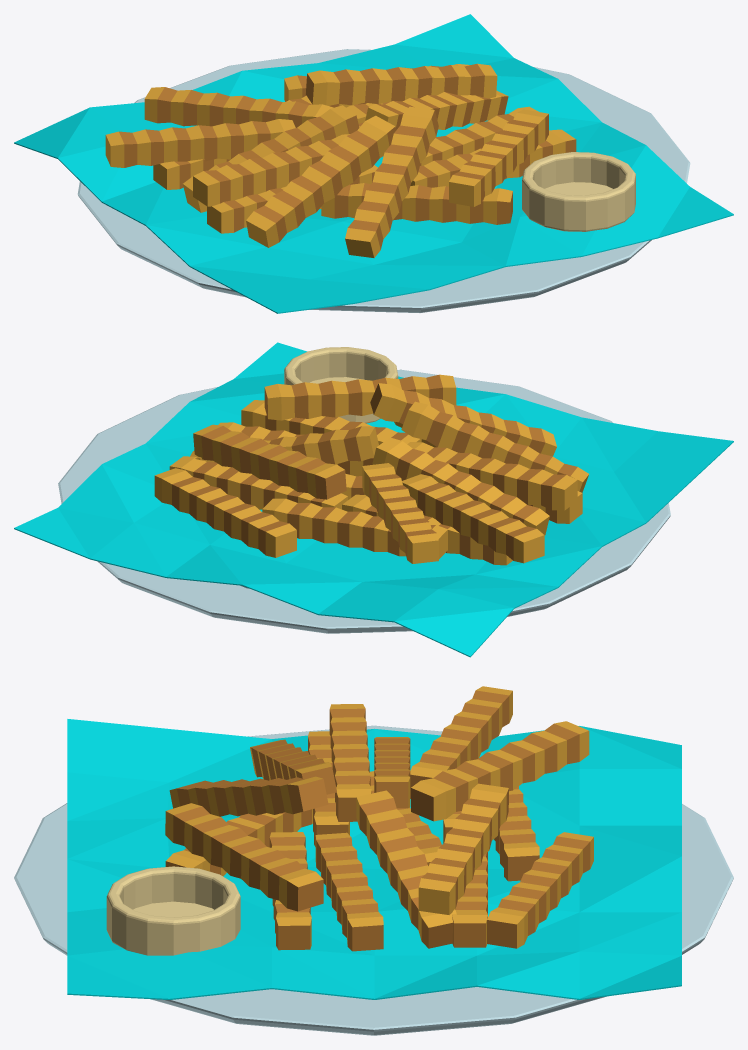
The model's file is fries 2.fbx.
3 views of the same model, one above another, from view 1: azimuth 30°, elevation 25°; view 2: azimuth 150°, elevation 25°; view 3: azimuth 270°, elevation 25° (orthographic). The views are drawn at different scales.
Visible parts, largest first — view 1: bake_paper, Cube.014, Cube.019, Cube.005, Cube.009, Cube.016, Cube.018, Cube.002, Cube.013, Cube.017, Cube.006, Cube.010 (+6 smaller); view 2: bake_paper, Cube.014, Cube.009, Cube.007, Cube.018, Cube.013, Cube.005, Cube, Cube.017, Cube.004, Cube.002, Cube.016 (+7 smaller); view 3: bake_paper, Cube.014, Cube.019, Cube.013, Cube.002, Cube.007, Cube.009, Cube.010, Cube.011, Cube.016, Cube.018, Cube.017 (+8 smaller).
Boxes of the visible parts, x1,y1,x2,y2 form: bake_paper: (14,14,733,313); Cube.014: (77,49,690,312); Cube.019: (522,152,635,231); Cube.005: (246,115,395,247); Cube.009: (306,63,497,105); Cube.016: (345,106,438,257); Cube.018: (105,119,295,167); Cube.002: (144,87,333,127); Cube.013: (449,109,548,206); Cube.017: (193,134,349,206); Cube.006: (321,183,512,224); Cube.010: (365,90,508,130); bake_paper: (14,342,733,657); Cube.014: (58,369,670,633); Cube.009: (193,424,346,499); Cube.007: (154,468,296,557); Cube.018: (402,474,544,563); Cube.013: (264,374,456,420); Cube.005: (401,401,588,492); Cube: (262,498,447,558); Cube.017: (407,442,577,510); Cube.004: (372,437,549,535); Cube.002: (362,463,438,563); Cube.016: (370,383,556,456); bake_paper: (67,719,681,999); Cube.014: (14,725,733,1035); Cube.019: (106,866,240,955); Cube.013: (165,803,323,911); Cube.002: (411,721,589,821); Cube.007: (487,832,593,948); Cube.009: (418,783,508,914); Cube.010: (356,790,456,948); Cube.011: (315,832,383,951); Cube.016: (169,776,328,816); Cube.018: (410,686,512,798); Cube.017: (329,704,371,821).
Bounding box in the file's own units: 122 × 21.21 × 122.
